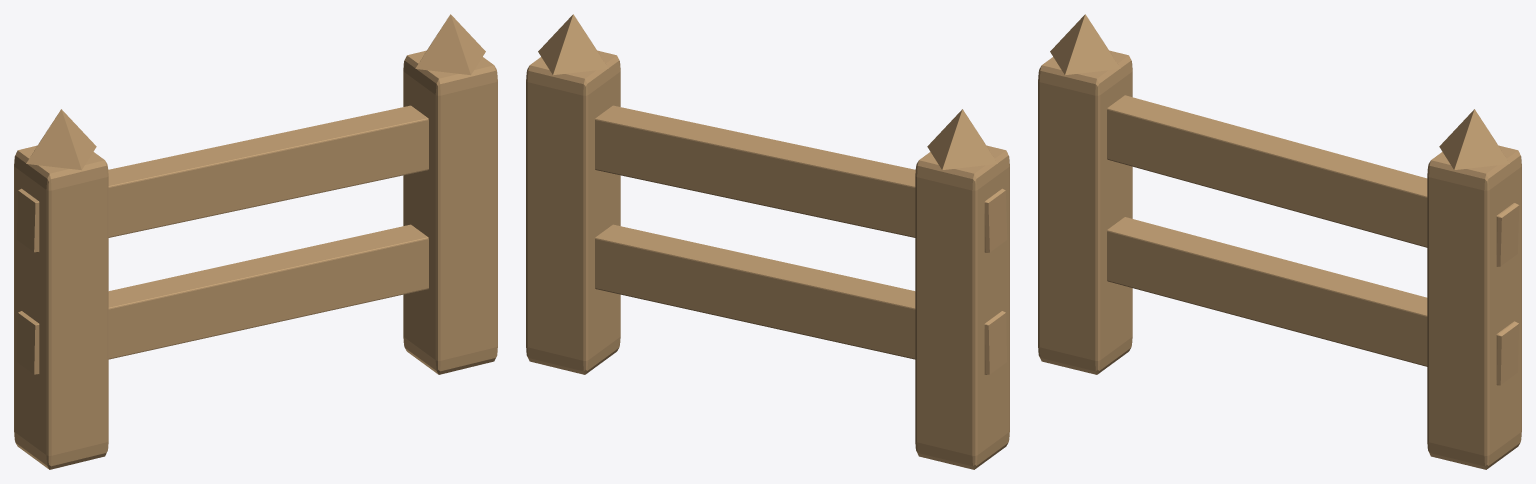
File: FenceSegment.fbx
The picture shows the model from 3 angles, left to right: view 1: azimuth 30°, elevation 25°; view 2: azimuth 150°, elevation 25°; view 3: azimuth 330°, elevation 25°; orthographic projection.
Parts seen in each view (by area): view 1: Wood.002; view 2: Wood.002; view 3: Wood.002.
Boxes of the visible parts, left/top/right/bottom form: Wood.002: left=14, top=14, right=497, bottom=469; Wood.002: left=526, top=14, right=1009, bottom=469; Wood.002: left=1038, top=14, right=1521, bottom=469.
Bounding box in the file's own units: 5.21 × 3.7 × 0.8.
